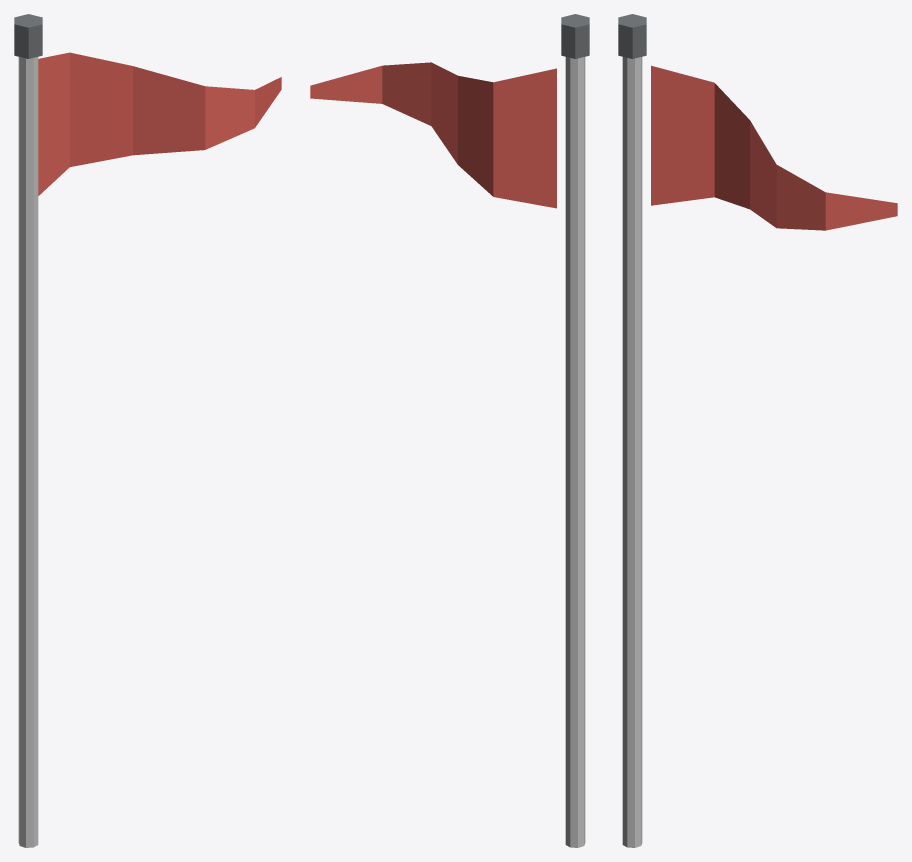
The model's file is flag_02.glb.
The picture shows the model from 3 angles, left to right: view 1: azimuth 30°, elevation 25°; view 2: azimuth 150°, elevation 25°; view 3: azimuth 330°, elevation 25°; orthographic projection.
Parts seen in each view (by area): view 1: Flag_02; view 2: Flag_02; view 3: Flag_02.
Part boxes in pixels (bbox=[...]): Flag_02: bbox=[14, 14, 281, 847]; Flag_02: bbox=[310, 14, 589, 847]; Flag_02: bbox=[618, 14, 897, 847].
Bounding box in the file's own units: 0.775 × 2.23 × 0.1817.
